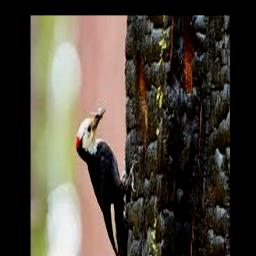Woodpecker: (77, 104, 137, 256)
